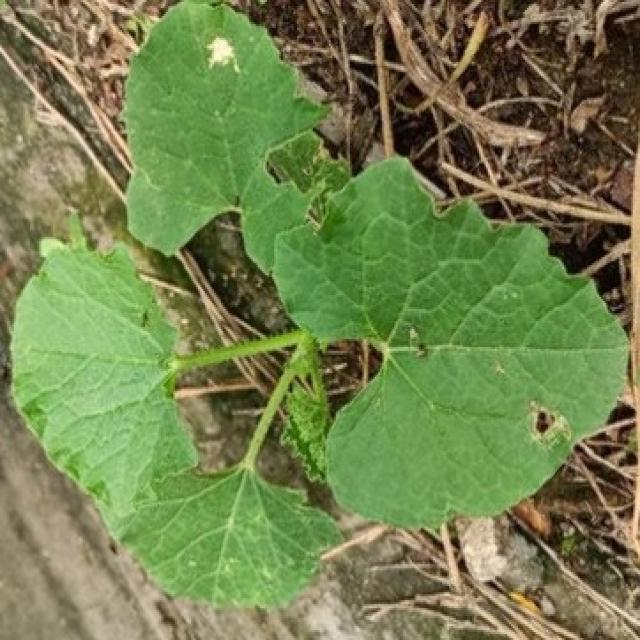plant: (12, 2, 629, 607)
